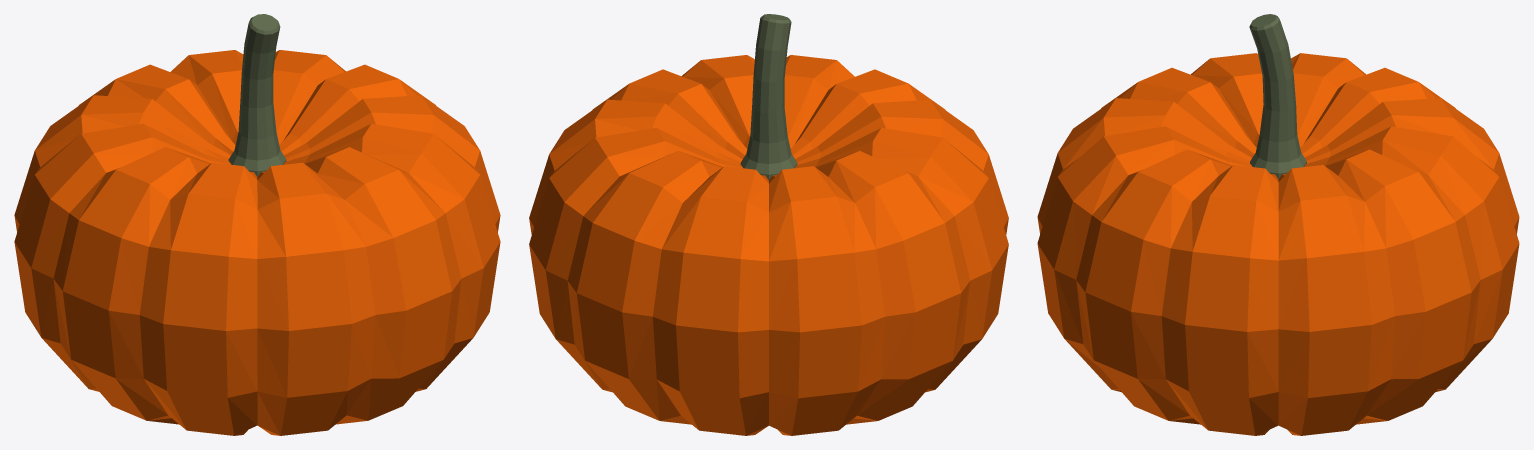
The model's file is pumpkin.glb.
3 views of the same model, side by side, from view 1: azimuth 30°, elevation 25°; view 2: azimuth 150°, elevation 25°; view 3: azimuth 270°, elevation 25° (orthographic).
Parts seen in each view (by area): view 1: buffer-0-mesh-0_0, buffer-0-mesh-0_1; view 2: buffer-0-mesh-0_0, buffer-0-mesh-0_1; view 3: buffer-0-mesh-0_0, buffer-0-mesh-0_1.
Boxes of the visible parts, left/top/right/bottom form: buffer-0-mesh-0_0: left=14, top=50, right=500, bottom=435; buffer-0-mesh-0_1: left=228, top=14, right=286, bottom=176; buffer-0-mesh-0_0: left=529, top=55, right=1008, bottom=435; buffer-0-mesh-0_1: left=740, top=14, right=797, bottom=180; buffer-0-mesh-0_0: left=1037, top=53, right=1519, bottom=435; buffer-0-mesh-0_1: left=1249, top=14, right=1306, bottom=179.
Size of the model in its own units: 2.07 by 1.78 by 2.07.
